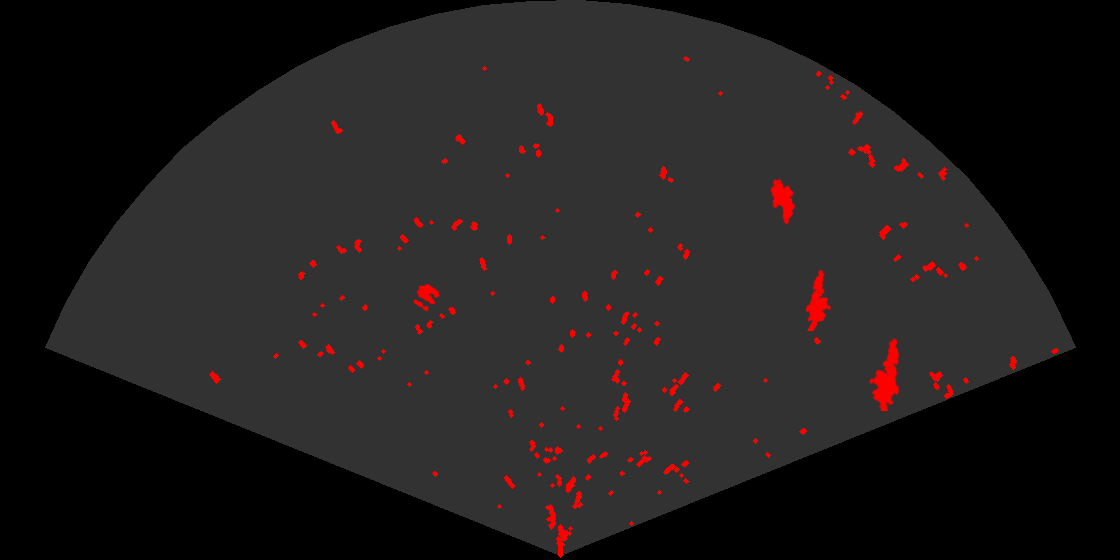AUV: (769, 177, 797, 227)
ball: (412, 282, 441, 313)
frogman: (867, 336, 901, 411), (804, 268, 833, 331)
